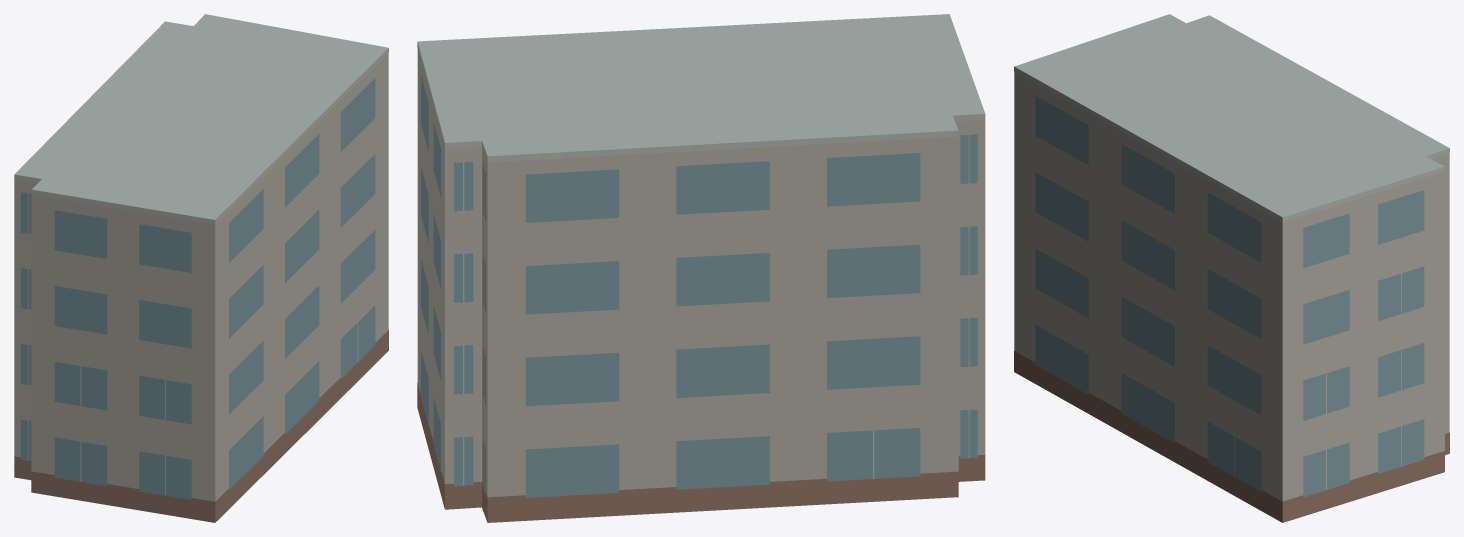
The model's file is survey-upis-32726643.glb.
3 views of the same model, side by side, from view 1: azimuth 30°, elevation 25°; view 2: azimuth 150°, elevation 25°; view 3: azimuth 270°, elevation 25° (orthographic). The views are drawn at different scales.
Parts seen in each view (by area): view 1: survey-upis-32726643.tmp; view 2: survey-upis-32726643.tmp; view 3: survey-upis-32726643.tmp.
Part boxes in pixels (x1,y1,x2,y2): survey-upis-32726643.tmp: (14, 14, 388, 522); survey-upis-32726643.tmp: (417, 14, 985, 522); survey-upis-32726643.tmp: (1014, 14, 1449, 522).
Bounding box in the file's own units: 21.21 × 14.85 × 19.2.
